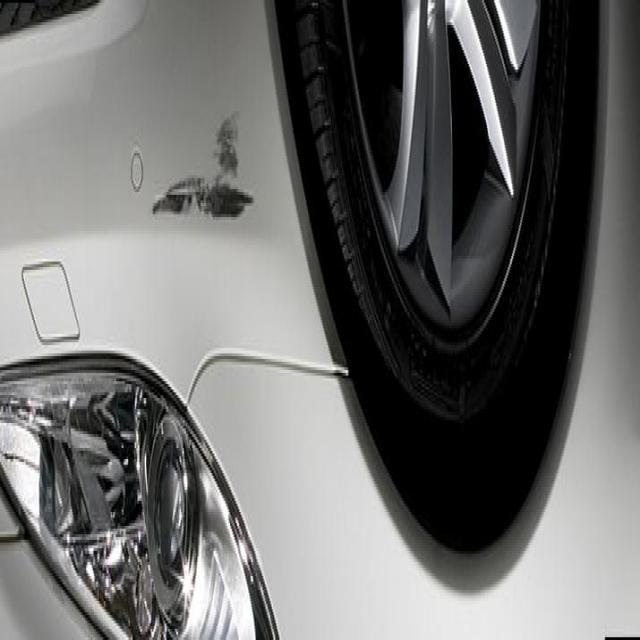scratch: (146, 80, 264, 286)
